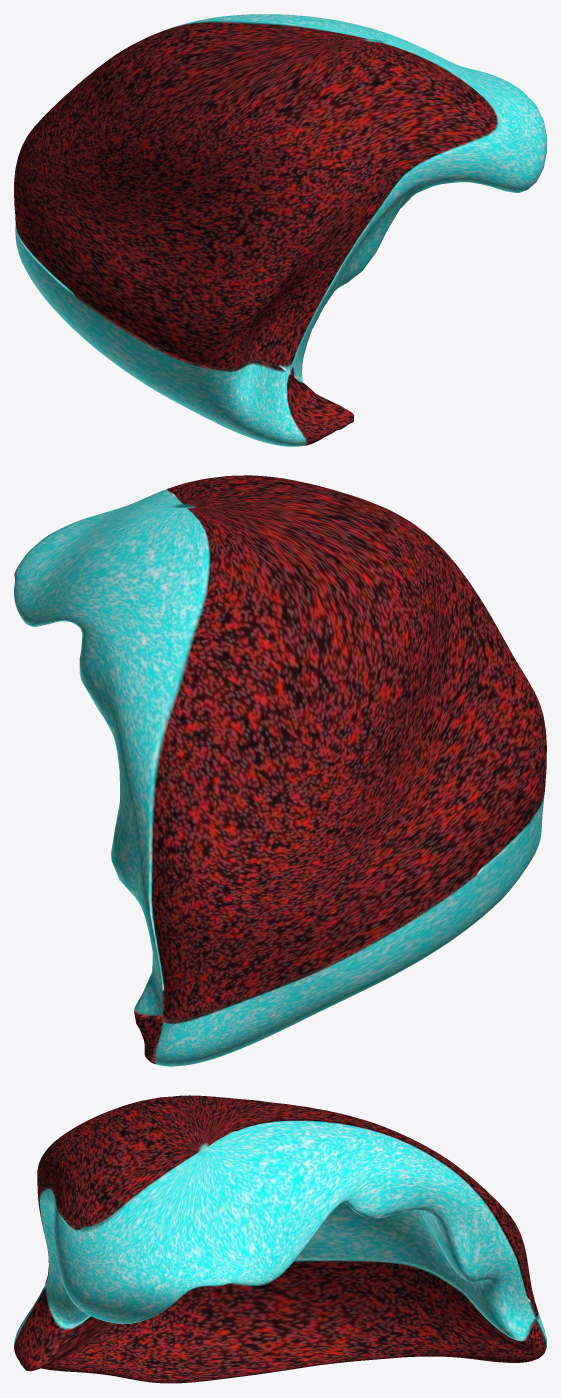
3 views of the same model, one above another, from view 1: azimuth 30°, elevation 25°; view 2: azimuth 150°, elevation 25°; view 3: azimuth 270°, elevation 25° (orthographic). The views are drawn at different scales.
Visible parts, largest first — view 1: SM_VFX_Wave_Water_LOD0; view 2: SM_VFX_Wave_Water_LOD0; view 3: SM_VFX_Wave_Water_LOD0.
Boxes of the visible parts, x1,y1,x2,y2 form: SM_VFX_Wave_Water_LOD0: (14, 14, 546, 446); SM_VFX_Wave_Water_LOD0: (14, 475, 546, 1066); SM_VFX_Wave_Water_LOD0: (14, 1095, 546, 1383).
Bounding box in the file's own units: 3.41 × 2.63 × 4.19.
Materials: 1 (1 with a texture image).
